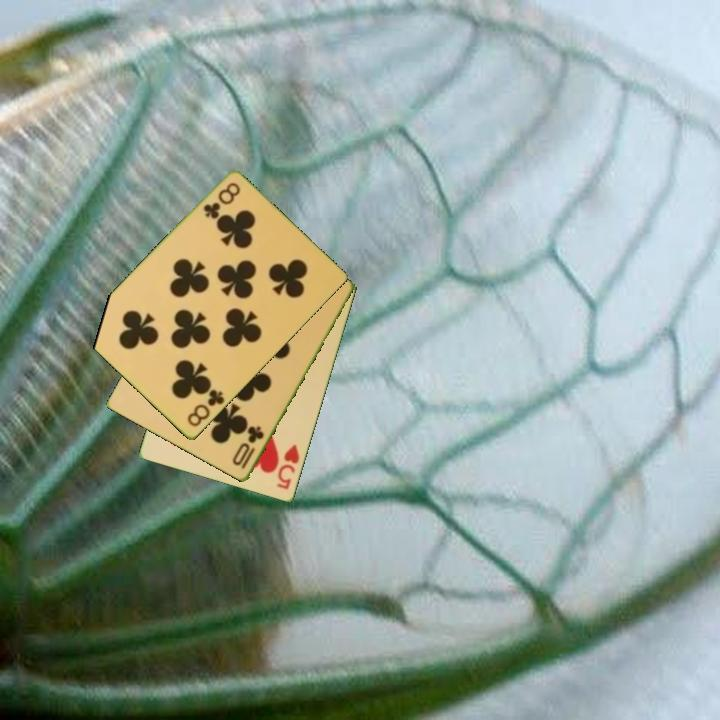10c: (229, 423, 267, 473)
5h: (274, 441, 303, 493)
8c: (184, 386, 227, 430), (200, 179, 243, 222)
